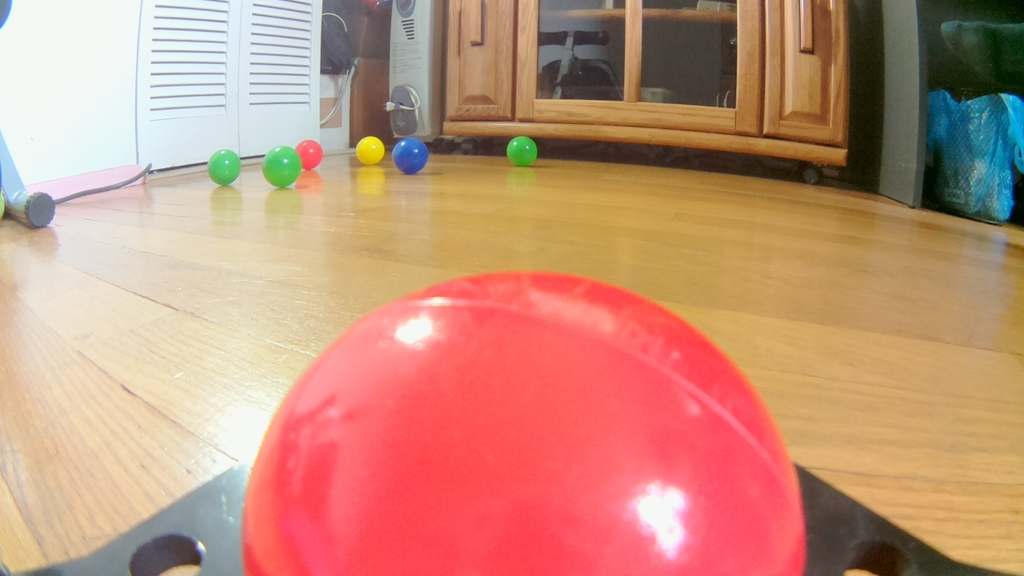ball: (295, 139, 324, 171)
